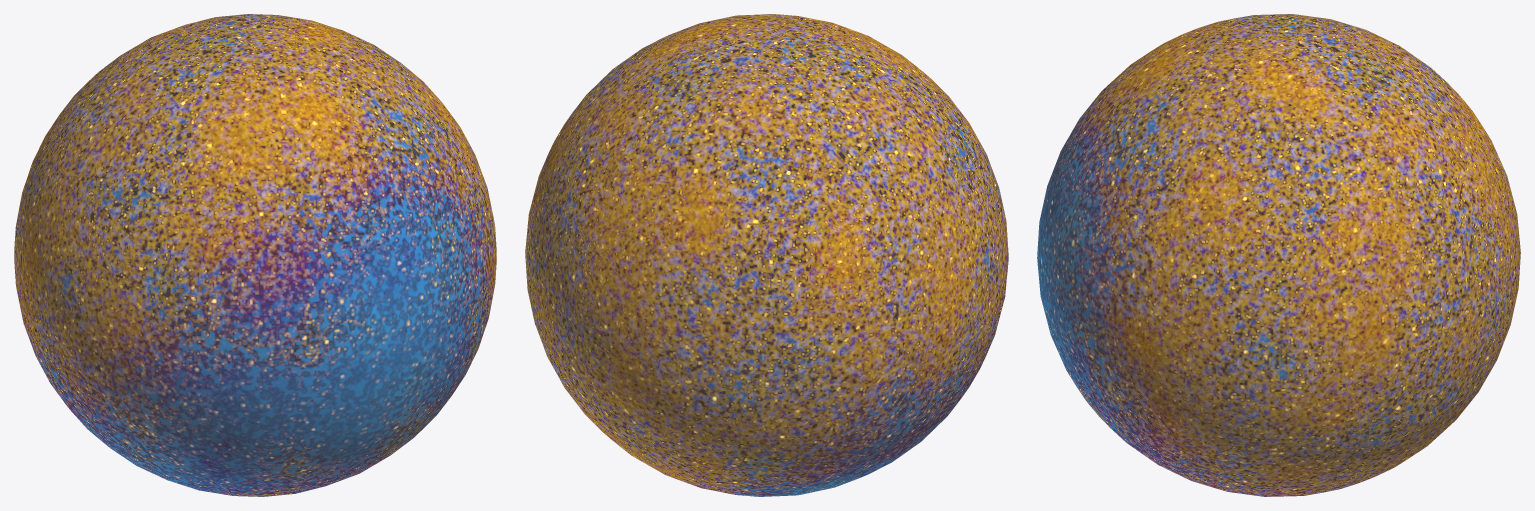
Rendered from mercurio.glb.
3 views of the same model, side by side, from view 1: azimuth 30°, elevation 25°; view 2: azimuth 150°, elevation 25°; view 3: azimuth 270°, elevation 25° (orthographic).
Parts seen in each view (by area): view 1: Mercurio; view 2: Mercurio; view 3: Mercurio.
Part boxes in pixels (x1,y1,x2,y2): Mercurio: [14, 14, 496, 496]; Mercurio: [525, 14, 1008, 496]; Mercurio: [1037, 14, 1520, 496].
Size of the model in its own units: 0.1679 by 0.168 by 0.168.
1 material, 1 textured.
